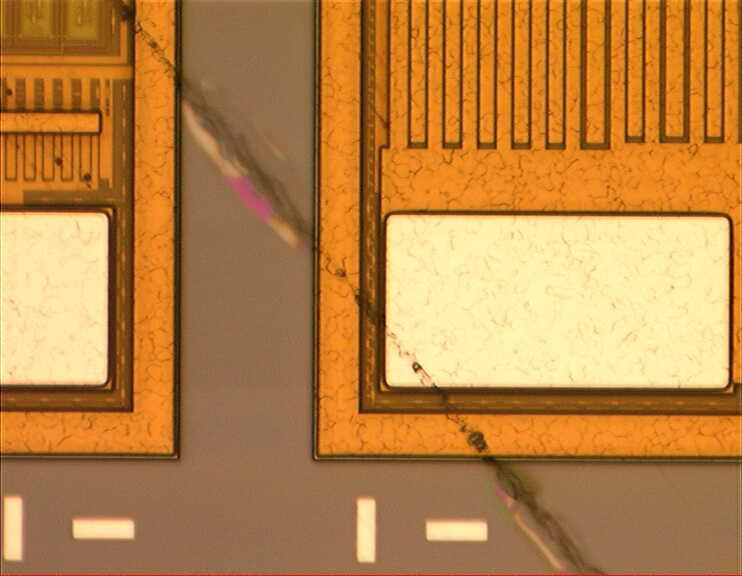SCRATCH: (1, 1, 623, 576)
